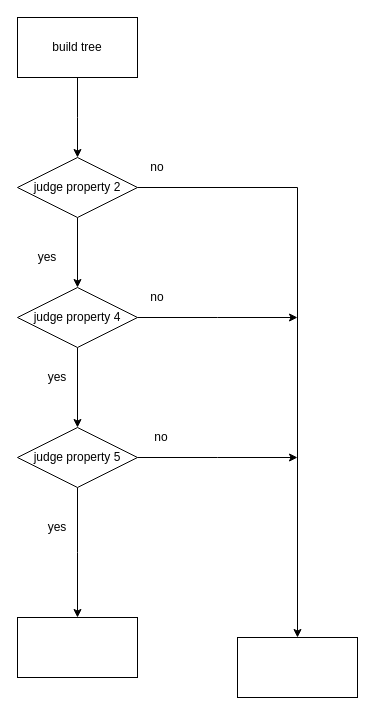
This 375x715 diagram has some shape labels left out. Here are the shapes that lost their labels. From the top down, the centre of each, then its label:
At pixel 77 647: "print yes".
At pixel 297 667: "print No".
